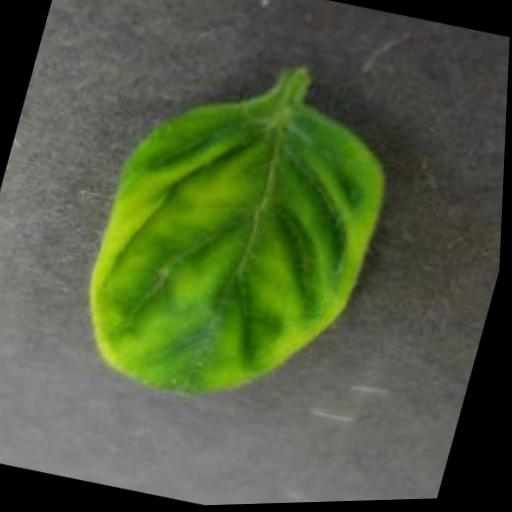Yellow Leaf Curl Virus: (70, 71, 409, 429)
